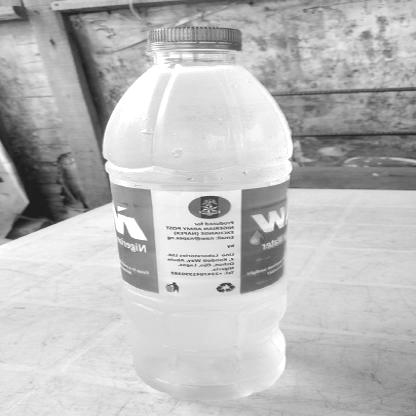bottle: (100, 22, 297, 403)
